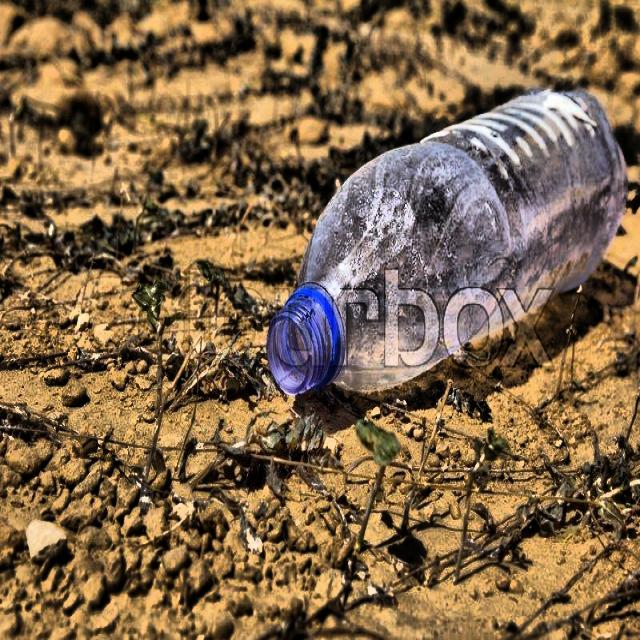plastic bottle: (267, 88, 630, 393)
